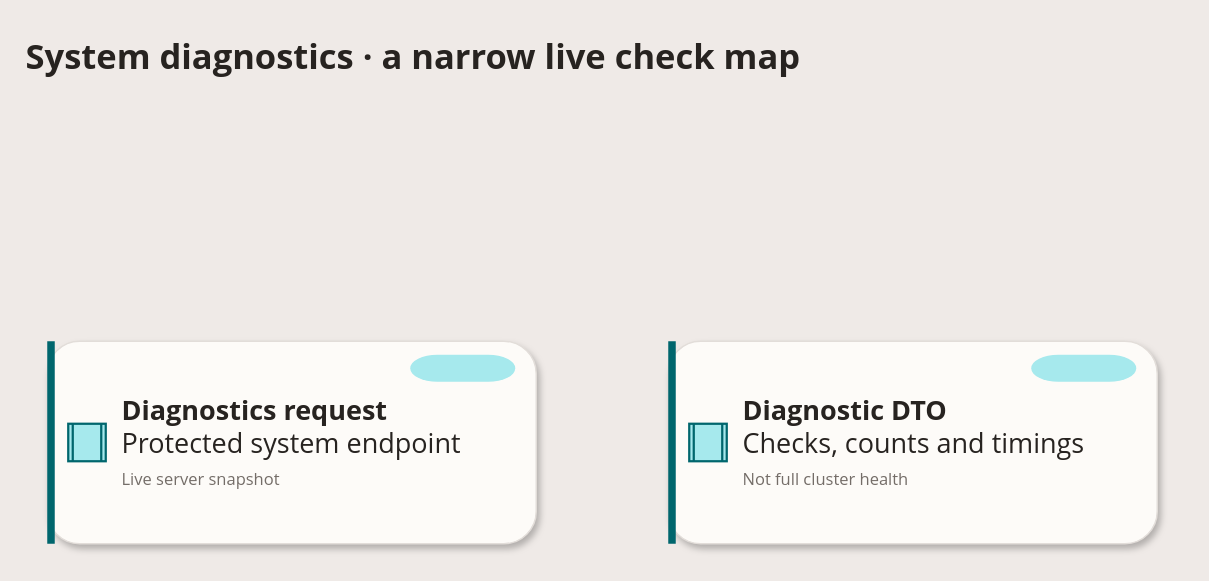
The diagram is 1209 pixels wide and 581 high, and some of its shapes have lost their labels. Here are the shapes that lost their labels. From the top down, the centre of each, then its label:
At point (462, 367): "SCOPE".
At point (1083, 367): "RESULT".
